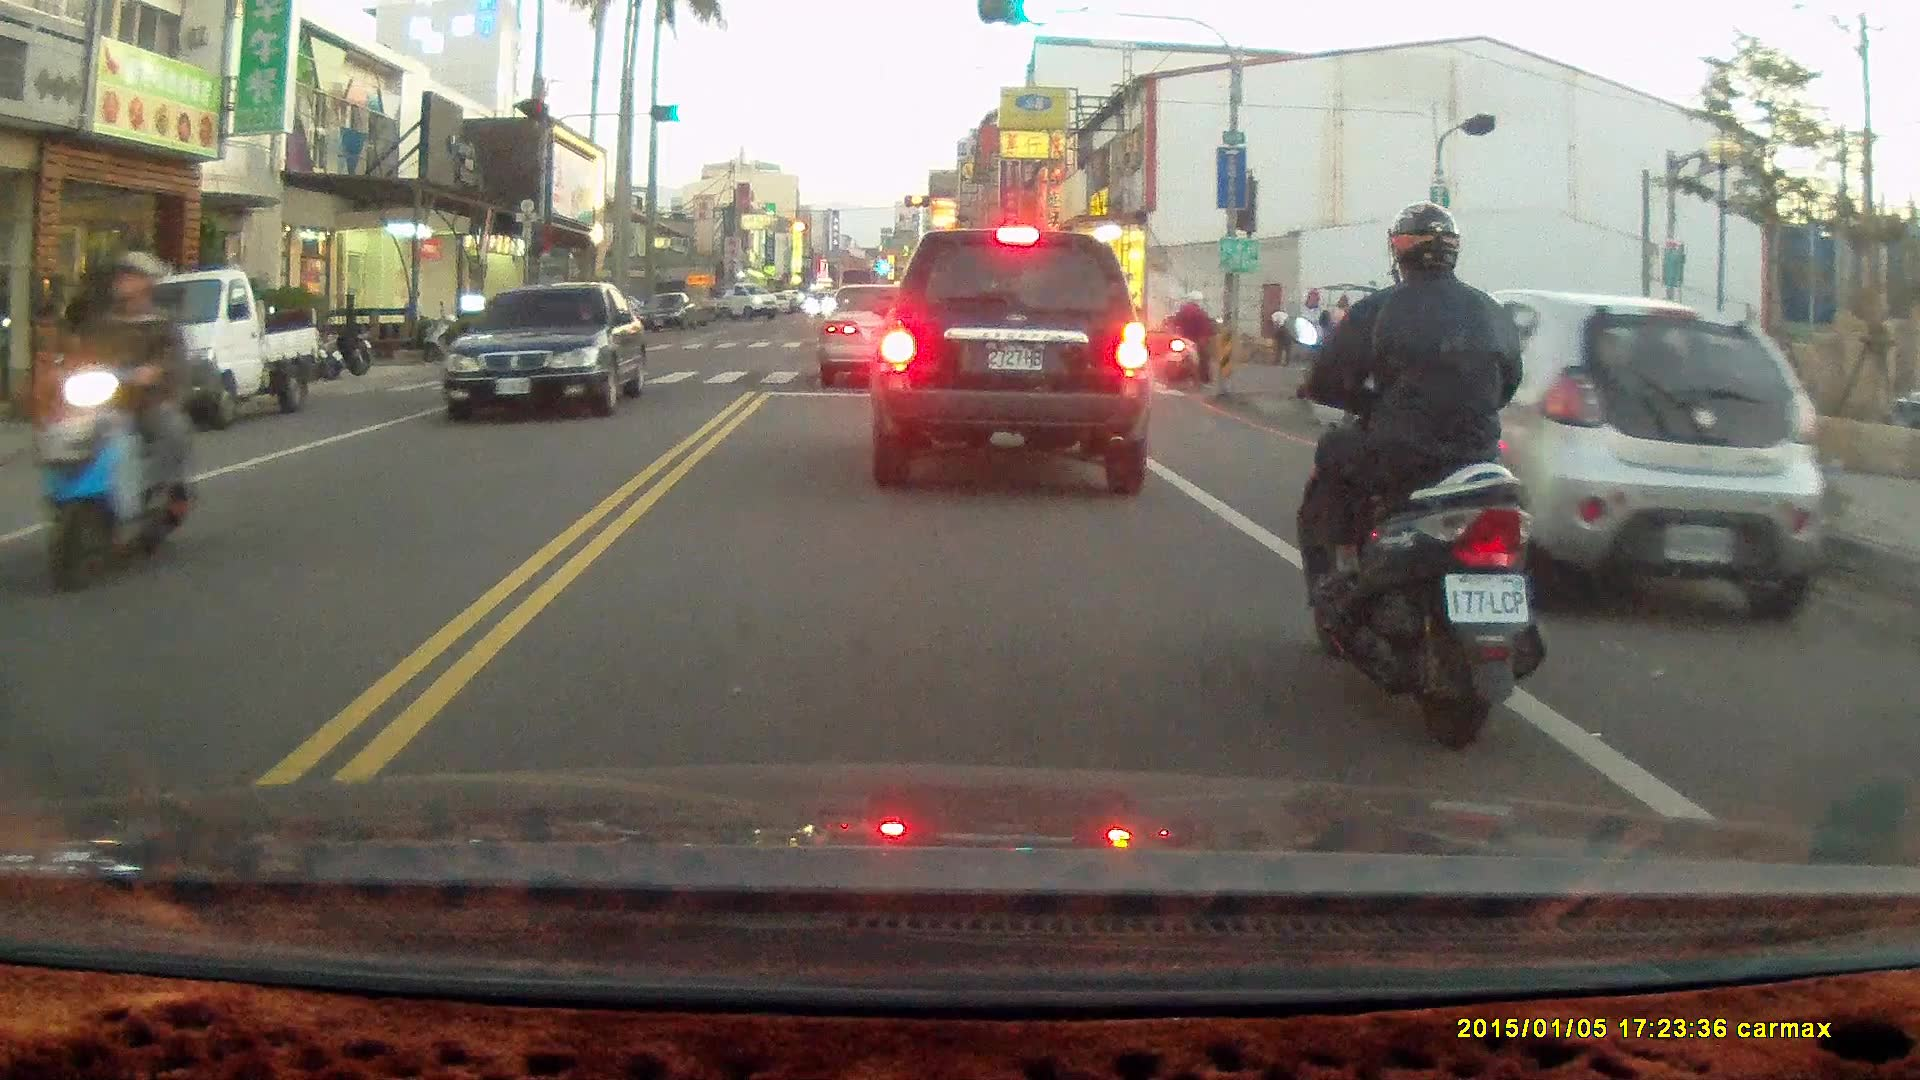pedestrian: (1264, 303, 1293, 368)
rider: (1277, 199, 1547, 749), (36, 246, 193, 599), (1159, 288, 1220, 391)
vehicle: (1382, 292, 1840, 623), (867, 224, 1155, 496), (99, 268, 324, 426), (447, 279, 649, 418), (818, 281, 938, 389)
